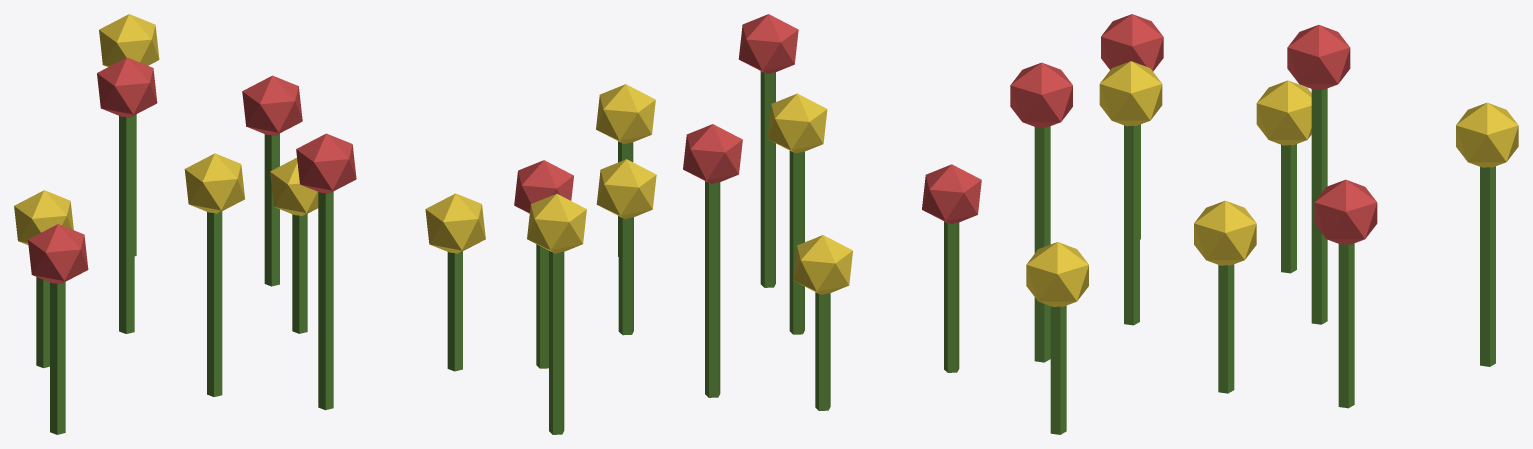
The model's file is NAT_Flowers.fbx.
3 renders of one model, left to right at view 1: azimuth 30°, elevation 25°; view 2: azimuth 150°, elevation 25°; view 3: azimuth 270°, elevation 25°, orthographic. The views are drawn at different scales.
Visible parts, largest first — view 1: NAT_Flowers__BODY; view 2: NAT_Flowers__BODY; view 3: NAT_Flowers__BODY.
Part boxes in pixels (box(x1,y1,x2,y2)): NAT_Flowers__BODY: box(14, 14, 485, 434); NAT_Flowers__BODY: box(514, 14, 981, 434); NAT_Flowers__BODY: box(1010, 14, 1518, 434).
Size of the model in its own units: 1.06 by 0.665 by 1.03.
